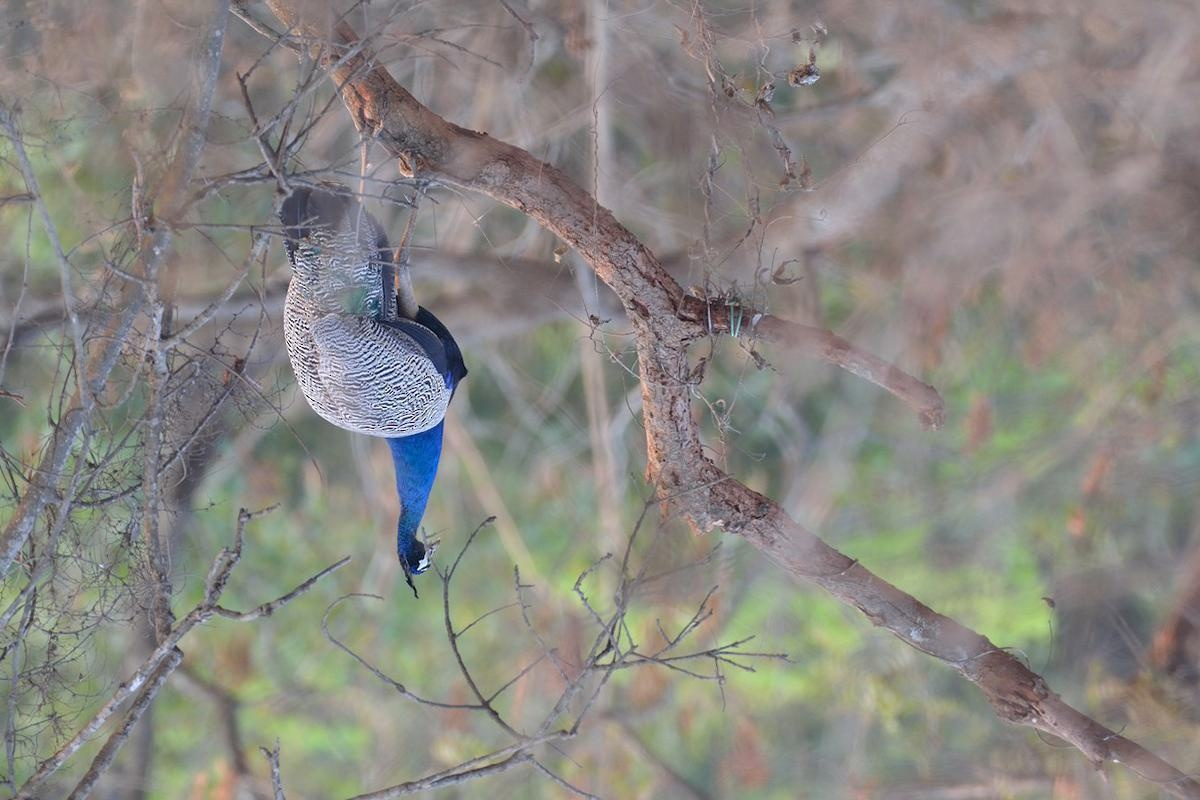peacock: (261, 107, 545, 608)
